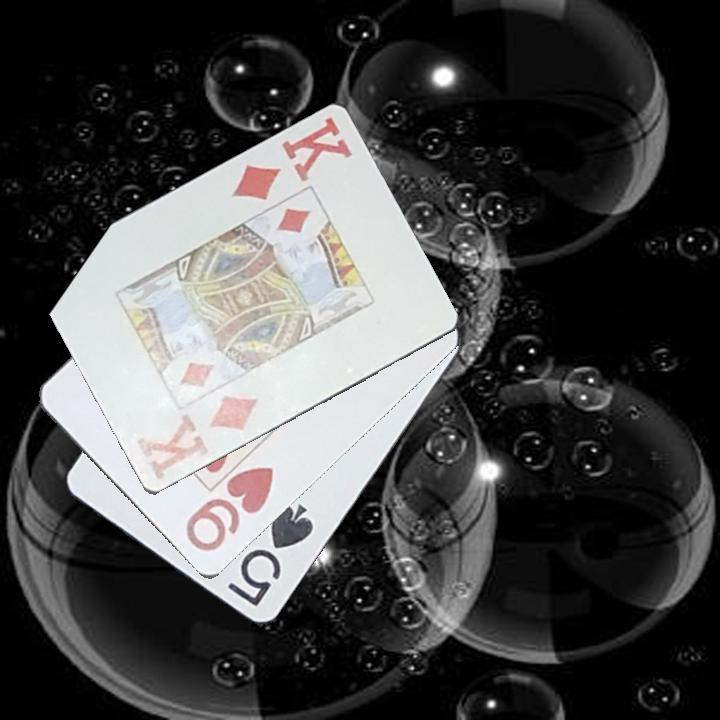5s: (224, 500, 317, 611)
9h: (182, 463, 277, 556)
Kd: (132, 391, 261, 483), (227, 114, 355, 204)
